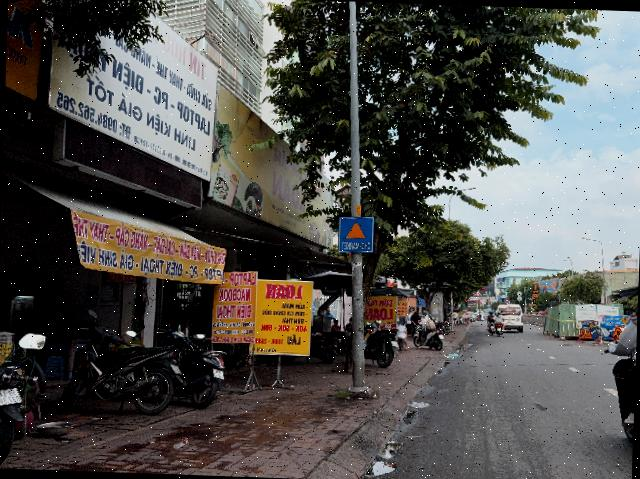khu-vuc-cho-phia-truoc: (338, 215, 374, 254)
